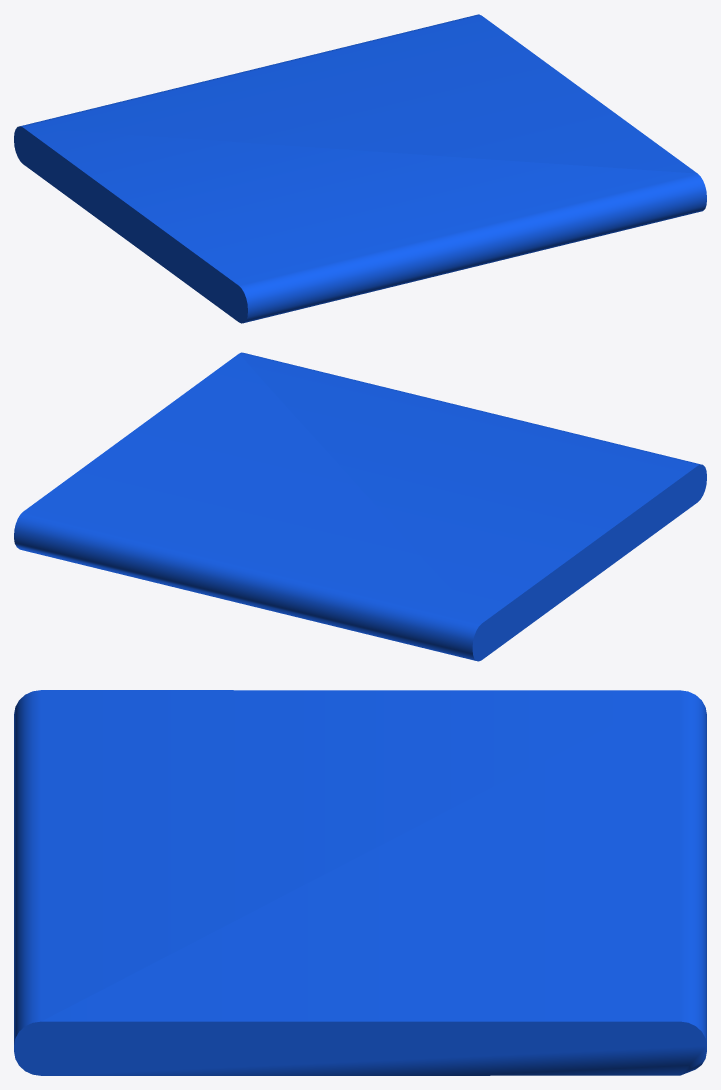
The model's file is MoldBlock.fbx.
3 views of the same model, one above another, from view 1: azimuth 30°, elevation 25°; view 2: azimuth 150°, elevation 25°; view 3: azimuth 270°, elevation 25° (orthographic). The views are drawn at different scales.
Parts seen in each view (by area): view 1: Block.001; view 2: Block.001; view 3: Block.001.
Boxes of the visible parts, left/top/right/bottom form: Block.001: left=14, top=14, right=706, bottom=323; Block.001: left=14, top=352, right=706, bottom=661; Block.001: left=14, top=690, right=706, bottom=1075.
Bounding box in the file's own units: 4.06 × 0.3099 × 3.59.
